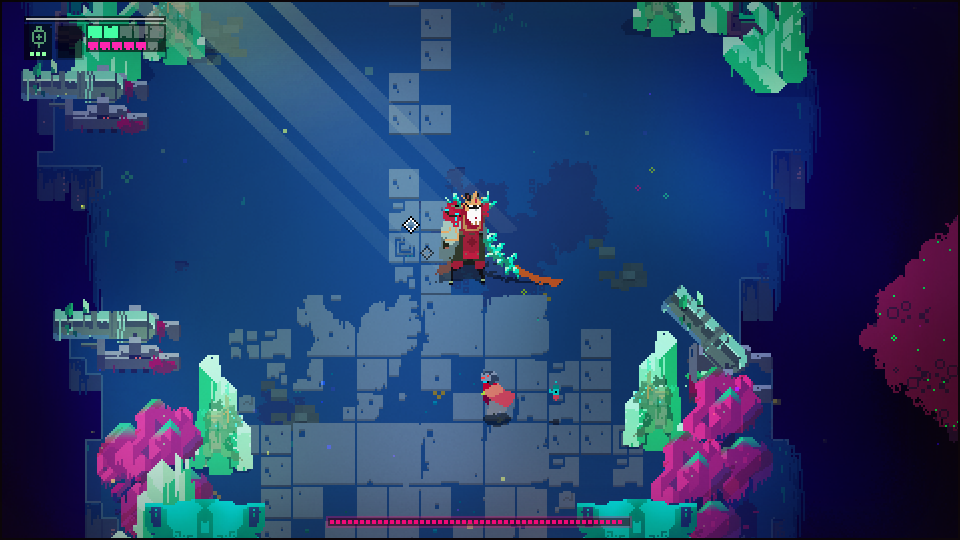hanged_man: (432, 187, 540, 290)
player: (477, 364, 522, 425)
